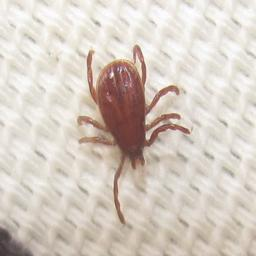Rhipicephalus sanguineus: (77, 48, 191, 225)
